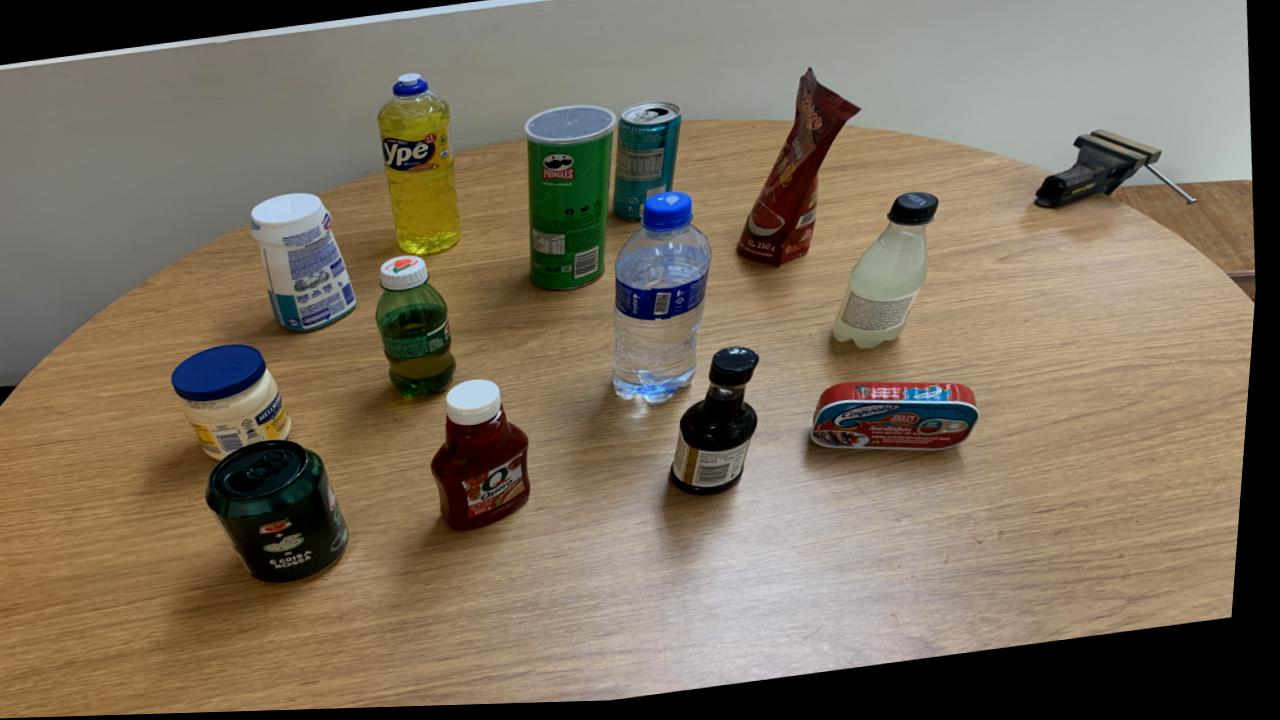Cleaner-Cleanup_Items: (254, 194, 363, 333)
Detergent-Cleanup_Items: (379, 75, 466, 258)
English_Sauce-Pantry_Items: (676, 351, 766, 499)
Guarana-Drinks: (381, 257, 462, 399)
Guarana_Can-Drinks: (213, 441, 357, 585)
Ketchup-Pantry_Items: (438, 382, 538, 533)
Mayonnaise-Pantry_Items: (178, 344, 298, 461)
Pringles-Snacks: (526, 108, 619, 294)
Soda-Drinks: (840, 197, 942, 354)
Tea-Drinks: (617, 104, 684, 223)
Tomato_Sauce-Pantry_Items: (740, 74, 862, 270)
Tuna_Can-Pantry_Items: (817, 386, 985, 456)
Water_Bottle-Drinks: (618, 195, 716, 407)
